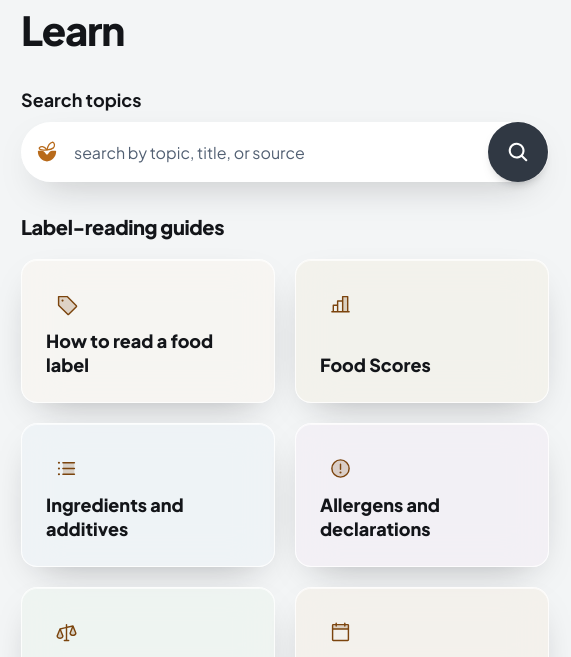
Test case: LearnPage › applies glass to discovery controls and guide destinations
Type "allergen" into the search field with placeholder "search by topic, title, or source" at [271, 152], box x1=74 y1=123 x2=468 y2=181
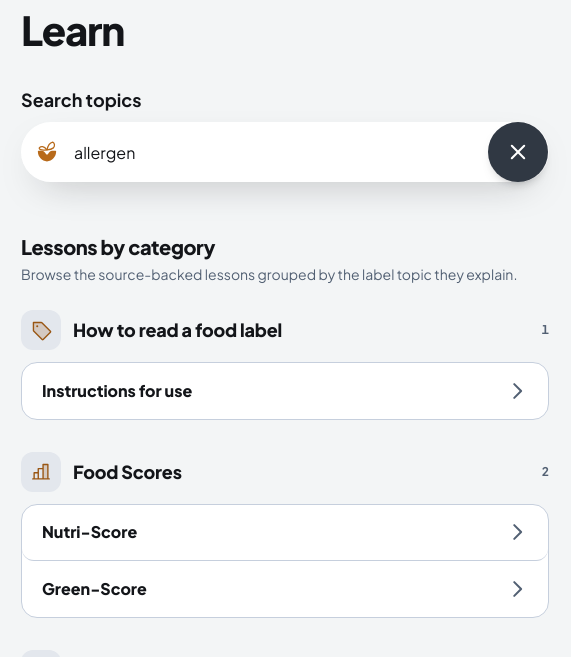
Now the heading "Lessons by category" is shown, box x1=21 y1=234 x2=215 y2=259
